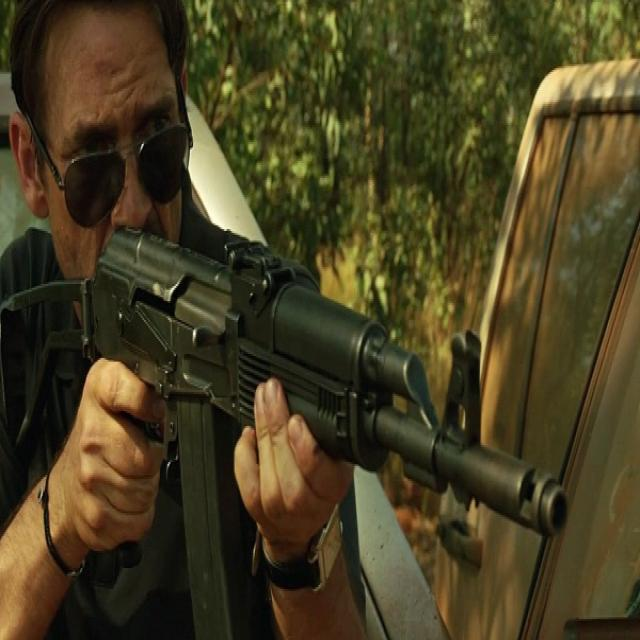rifle: (1, 223, 580, 640)
